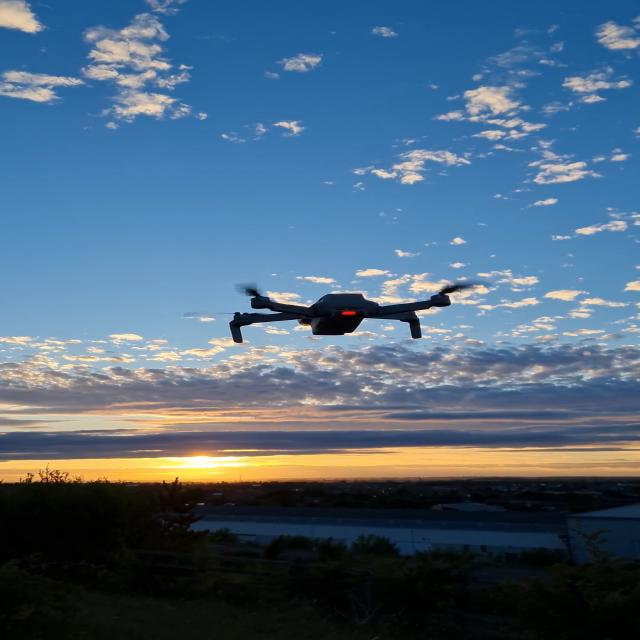Drone: (203, 267, 470, 361)
